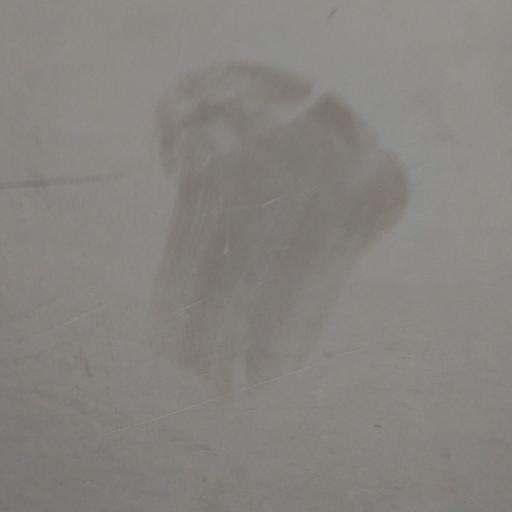stain: (104, 19, 427, 430), (6, 158, 150, 269)
